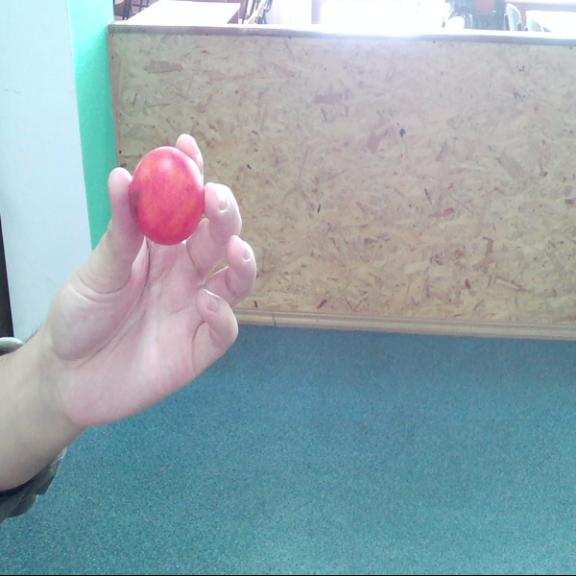ball: (132, 147, 202, 245)
